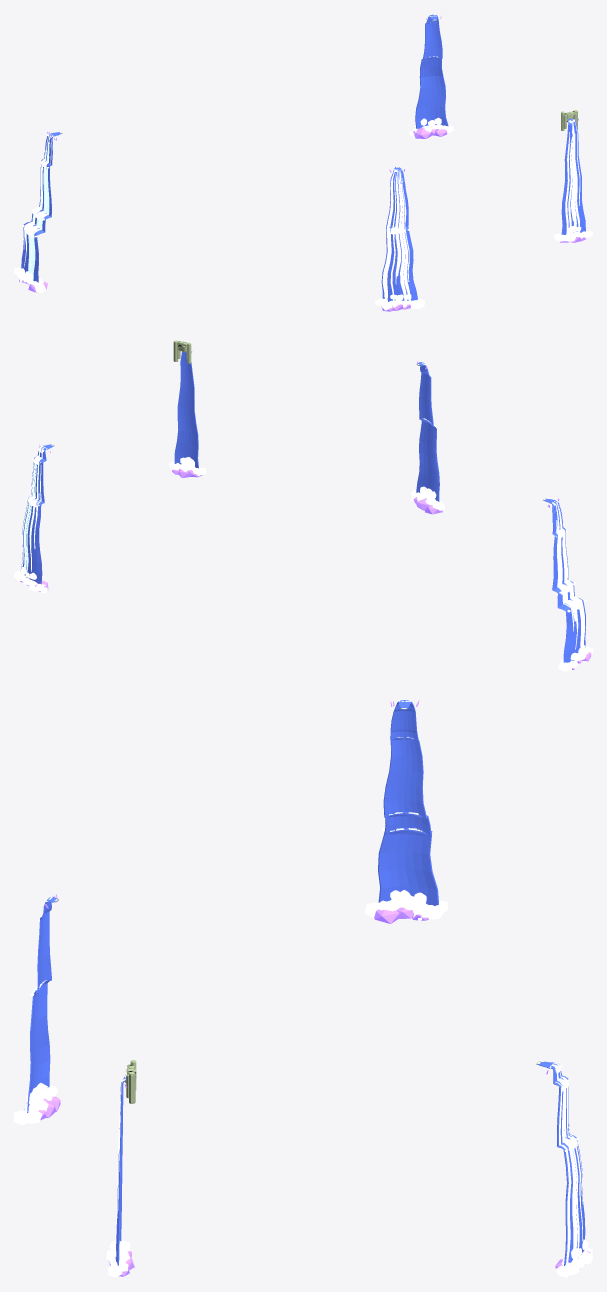
The model's file is ILHA3_07_WATER_ac1e1a.fbx.
The picture shows the model from 3 angles, top to bottom: view 1: azimuth 30°, elevation 25°; view 2: azimuth 150°, elevation 25°; view 3: azimuth 270°, elevation 25°; orthographic projection. The views are drawn at different scales.
Parts seen in each view (by area): view 1: SG_Water_Fall_East__Water_SG, SG_Water_Fall_West__Water_SG, SG_Water_Fall_West__Water_Fall, SG_Water_Fall_South__Water_SG, SG_Water_Fall_North__Water_SG, SG_Water_Fall_South__Water_Fall, SG_Water_Fall_North__Water_Fall, SG_Water_Fall_North__Foam, SG_Water_Fall_West__Foam, SG_Water_Fall_South__Foam; view 2: SG_Water_Fall_West__Water_SG, SG_Water_Fall_South__Water_SG, SG_Water_Fall_North__Water_SG, SG_Water_Fall_East__Water_SG, SG_Water_Fall_North__Water_Fall, SG_Water_Fall_North__Foam, SG_Water_Fall_East__Water_Fall, SG_Water_Fall_East__Foam, SG_Water_Fall_West__Foam; view 3: SG_Water_Fall_North__Water_SG, SG_Water_Fall_West__Water_SG, SG_Water_Fall_East__Water_SG, SG_Water_Fall_East__Water_Fall, SG_Water_Fall_North__Foam, SG_Water_Fall_East__Foam, SG_Water_Fall_West__Foam, SG_Water_Fall_South__Water_SG.
Part boxes in pixels (box(x1,y1,x2,y2)): SG_Water_Fall_East__Water_SG: box(415, 14, 448, 128); SG_Water_Fall_West__Water_SG: box(381, 167, 417, 301); SG_Water_Fall_West__Water_Fall: box(382, 169, 410, 300); SG_Water_Fall_South__Water_SG: box(561, 118, 585, 234); SG_Water_Fall_North__Water_SG: box(21, 132, 61, 282); SG_Water_Fall_South__Water_Fall: box(565, 121, 580, 234); SG_Water_Fall_North__Water_Fall: box(24, 135, 50, 280); SG_Water_Fall_North__Foam: box(14, 132, 61, 292); SG_Water_Fall_West__Foam: box(375, 167, 424, 310); SG_Water_Fall_South__Foam: box(554, 119, 592, 241); SG_Water_Fall_West__Water_SG: box(416, 362, 439, 501); SG_Water_Fall_South__Water_SG: box(174, 348, 198, 468); SG_Water_Fall_North__Water_SG: box(543, 498, 585, 662); SG_Water_Fall_East__Water_SG: box(21, 444, 53, 584); SG_Water_Fall_North__Water_Fall: box(556, 501, 585, 651); SG_Water_Fall_North__Foam: box(544, 498, 592, 671); SG_Water_Fall_East__Water_Fall: box(21, 452, 42, 577); SG_Water_Fall_East__Foam: box(14, 444, 53, 592); SG_Water_Fall_West__Foam: box(411, 361, 444, 510); SG_Water_Fall_North__Water_SG: box(378, 700, 438, 905); SG_Water_Fall_West__Water_SG: box(27, 896, 58, 1112); SG_Water_Fall_East__Water_SG: box(537, 1061, 585, 1265); SG_Water_Fall_East__Water_Fall: box(555, 1072, 582, 1264); SG_Water_Fall_North__Foam: box(364, 700, 448, 920); SG_Water_Fall_East__Foam: box(538, 1062, 592, 1277); SG_Water_Fall_West__Foam: box(14, 896, 57, 1124); SG_Water_Fall_South__Water_SG: box(115, 1076, 126, 1265).
Size of the model in its own units: 403 by 119 by 265.
6 materials, 1 textured.
